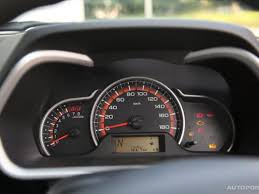Digital_Meter: (112, 136, 166, 151)
